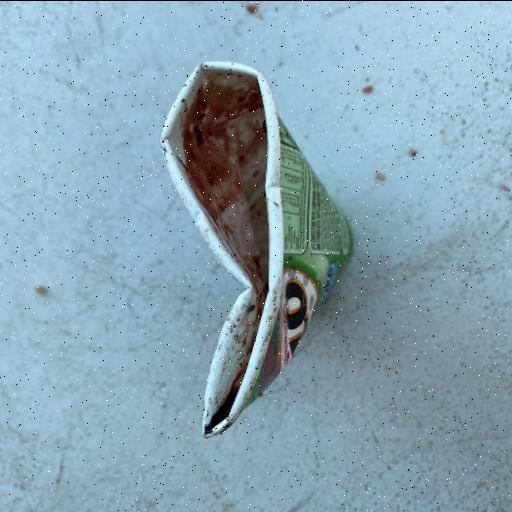Cardboard: (157, 58, 355, 440)
